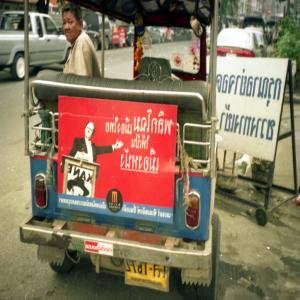Vehicle-registration-plate: (117, 260, 179, 295)
